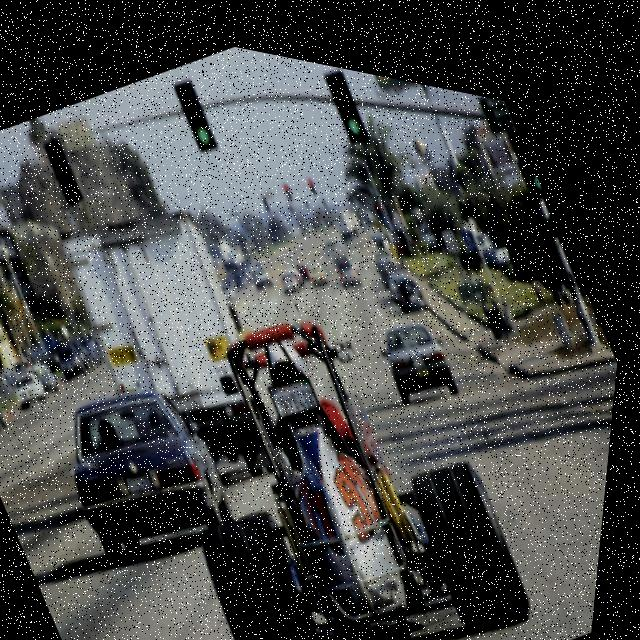license_plate: (273, 354, 330, 412)
